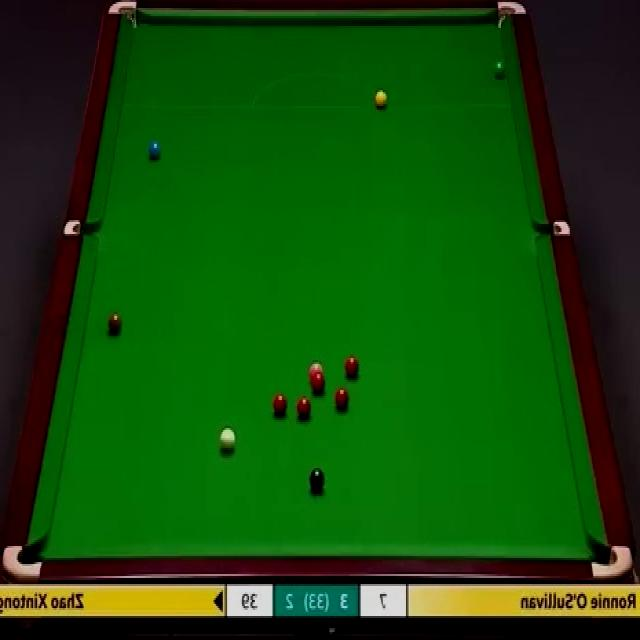pocket: (2, 543, 45, 582), (590, 543, 632, 582), (108, 0, 140, 32), (493, 0, 528, 29), (63, 218, 100, 237), (536, 218, 571, 238)
